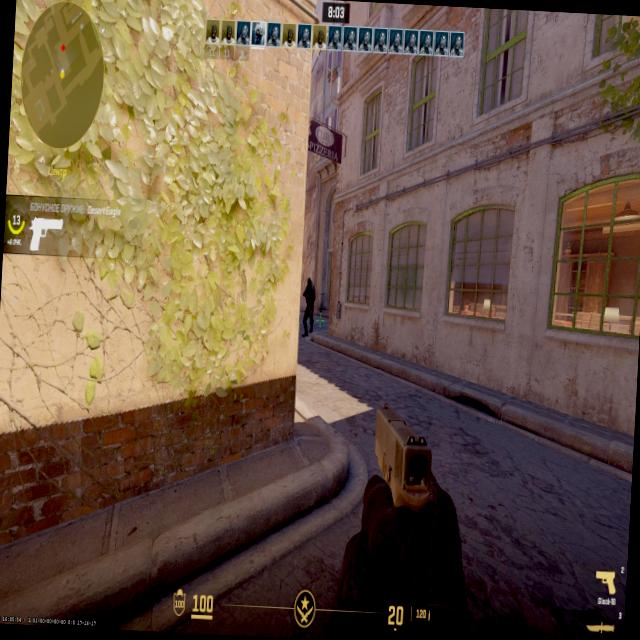CT: (302, 274, 316, 335)
CT_heat: (307, 278, 311, 290)
